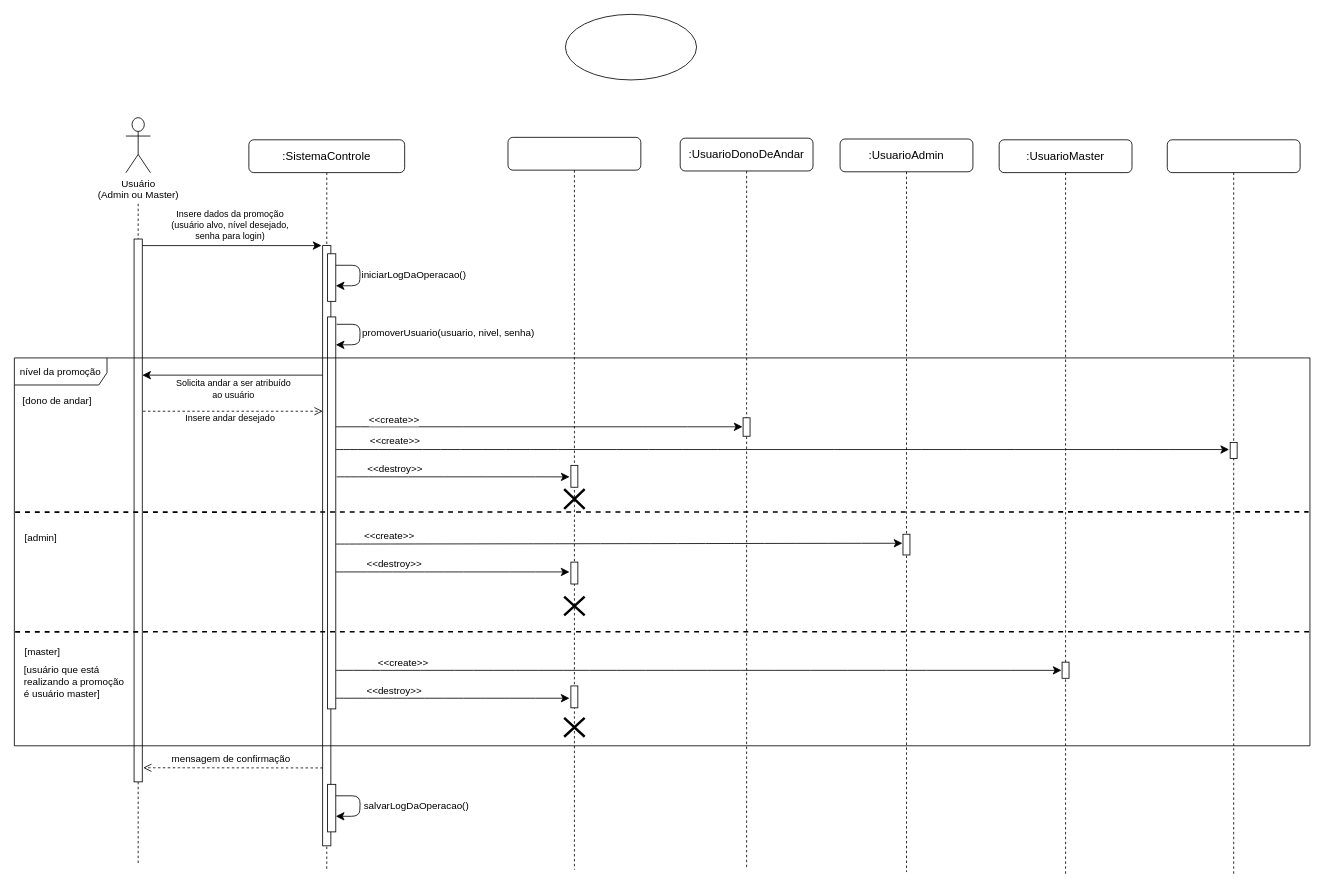
The diagram is 1326 pixels wide and 888 high, and some of its shapes have lost their labels. The box of each missing label's shape, as (x1, y1, x2, y2) in pixels:
:AndarVIP: (1166, 139, 1300, 874)
:UsuarioComum: (507, 137, 641, 870)
UC-02 Promover Usuário: (565, 14, 697, 80)
